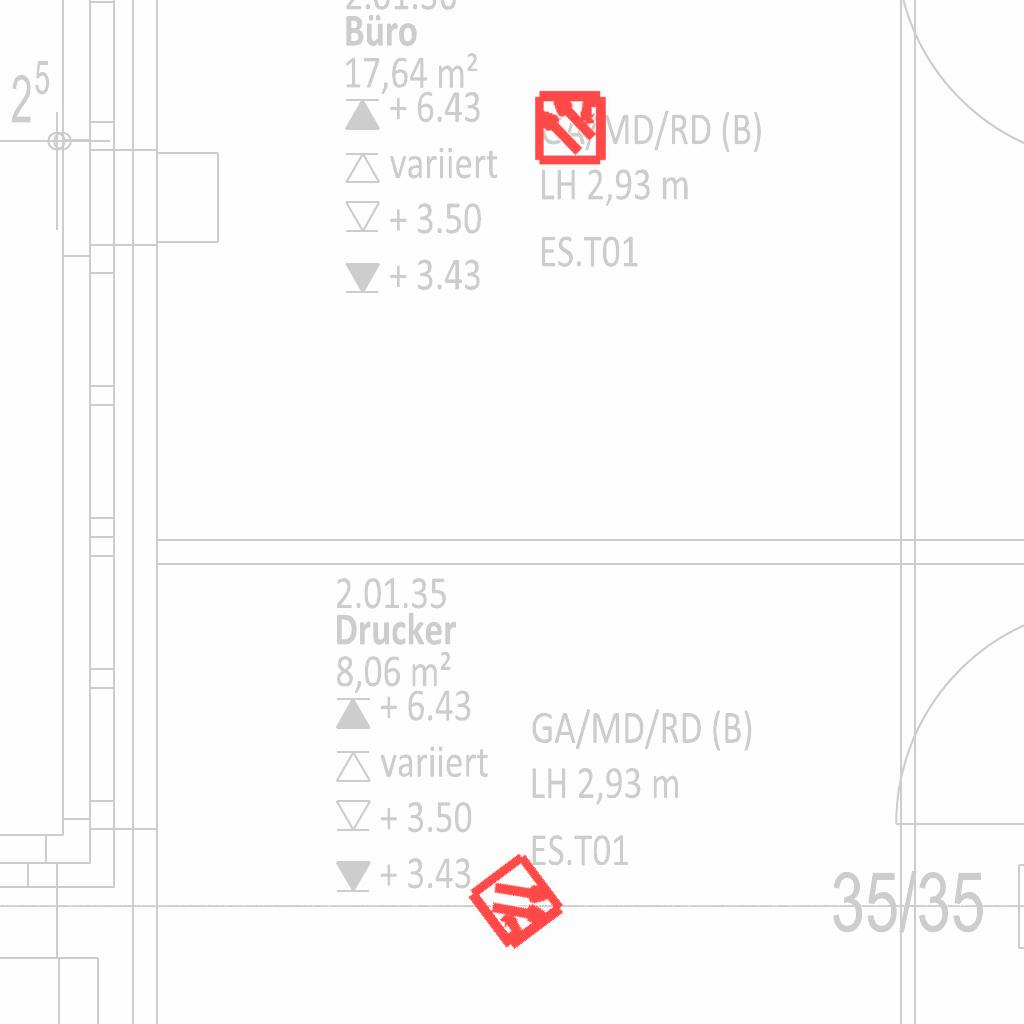OT_Multisensormelder_(Kombination_RMO_WMD): (438, 824, 597, 983), (514, 69, 627, 182)
